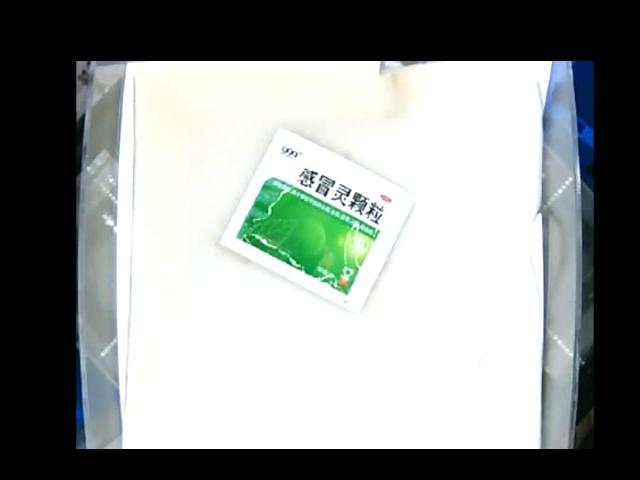Medicine: (215, 127, 410, 313)
